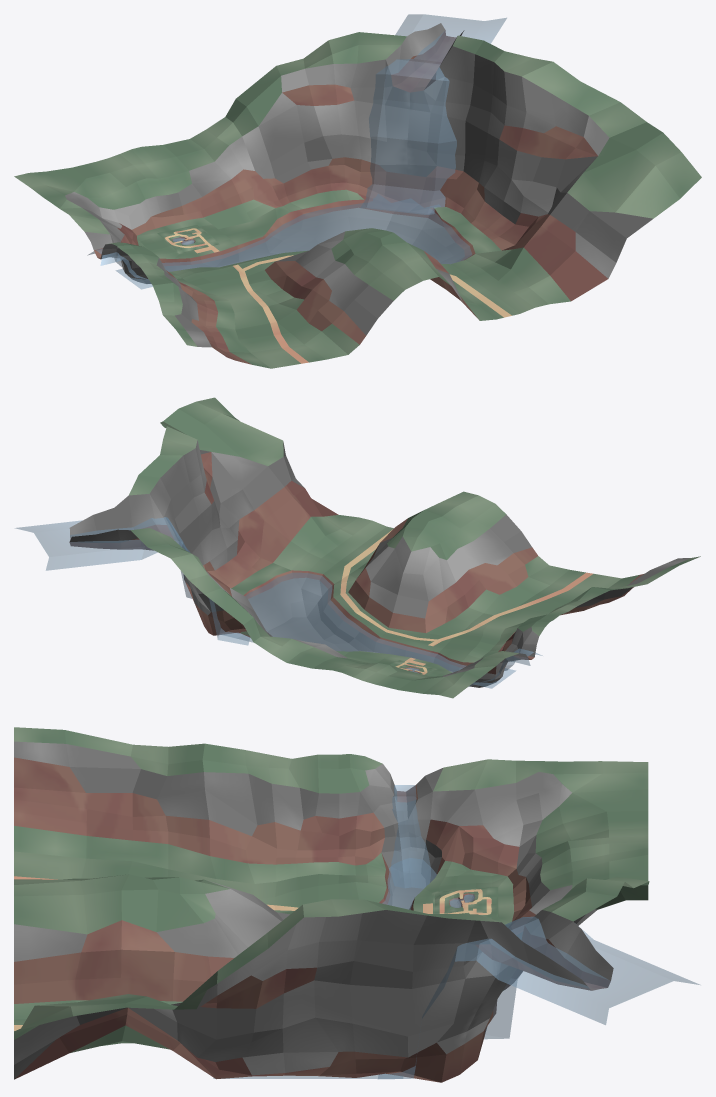
File: LNDSC1.fbx
The picture shows the model from 3 angles, top to bottom: view 1: azimuth 30°, elevation 25°; view 2: azimuth 150°, elevation 25°; view 3: azimuth 270°, elevation 25°; orthographic projection. The views are drawn at different scales.
Visible parts, largest first — view 1: landscape, Plane, lake; view 2: landscape, lake, Plane; view 3: landscape, Plane, Plane.001, lake.
Part boxes in pixels (x1=…): landscape: x1=14, y1=23, x2=701, y2=368; Plane: x1=361, y1=14, x2=506, y2=214; lake: x1=115, y1=194, x2=472, y2=289; landscape: x1=69, y1=397, x2=700, y2=698; lake: x1=220, y1=572, x2=515, y2=688; Plane: x1=15, y1=517, x2=249, y2=645; landscape: x1=14, y1=727, x2=649, y2=1082; Plane: x1=378, y1=916, x2=699, y2=1079; Plane.001: x1=391, y1=785, x2=430, y2=888; lake: x1=213, y1=858, x2=436, y2=1078.
Bounding box in the file's own units: 132691 × 41573 × 103692.
